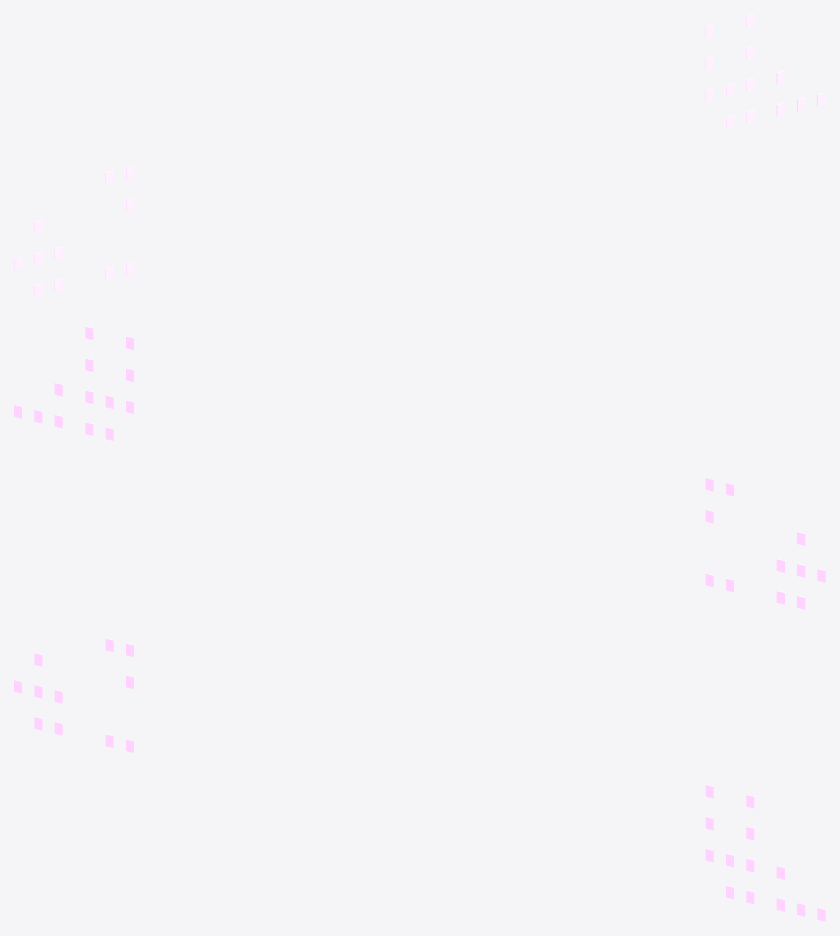
File: EndBlockWindows.fbx
3 views of the same model, one above another, from view 1: azimuth 30°, elevation 25°; view 2: azimuth 150°, elevation 25°; view 3: azimuth 330°, elevation 25° (orthographic).
Parts seen in each view (by area): view 1: EndWin-61_8_1.001; view 2: EndWin-61_8_1.001; view 3: EndWin-61_8_1.001.
Boxes of the visible parts, left/top/right/bottom form: EndWin-61_8_1.001: left=14, top=14, right=825, bottom=297; EndWin-61_8_1.001: left=14, top=326, right=825, bottom=609; EndWin-61_8_1.001: left=14, top=638, right=825, bottom=921.
Bounding box in the file's own units: 15960 × 2020 × 15.
